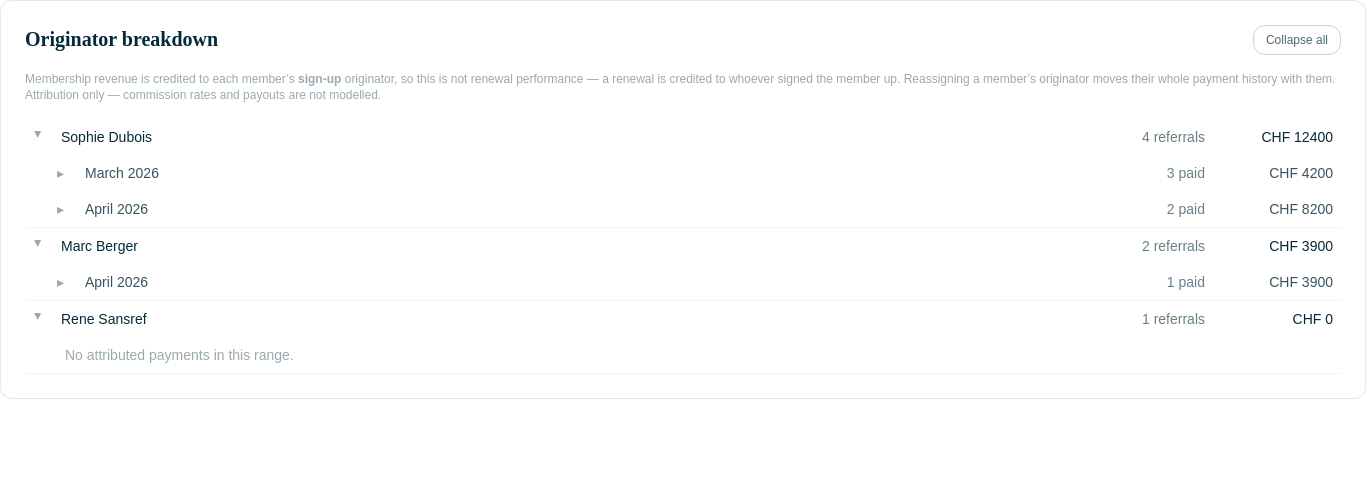
Test: OriginatorBreakdownPanel › collapses every level at once, then restores the default view
Click the button "▸ March 2026 3 paid CHF 4200". click: coordinates (122, 173)
box: x1=25 y1=155 x2=1341 y2=191
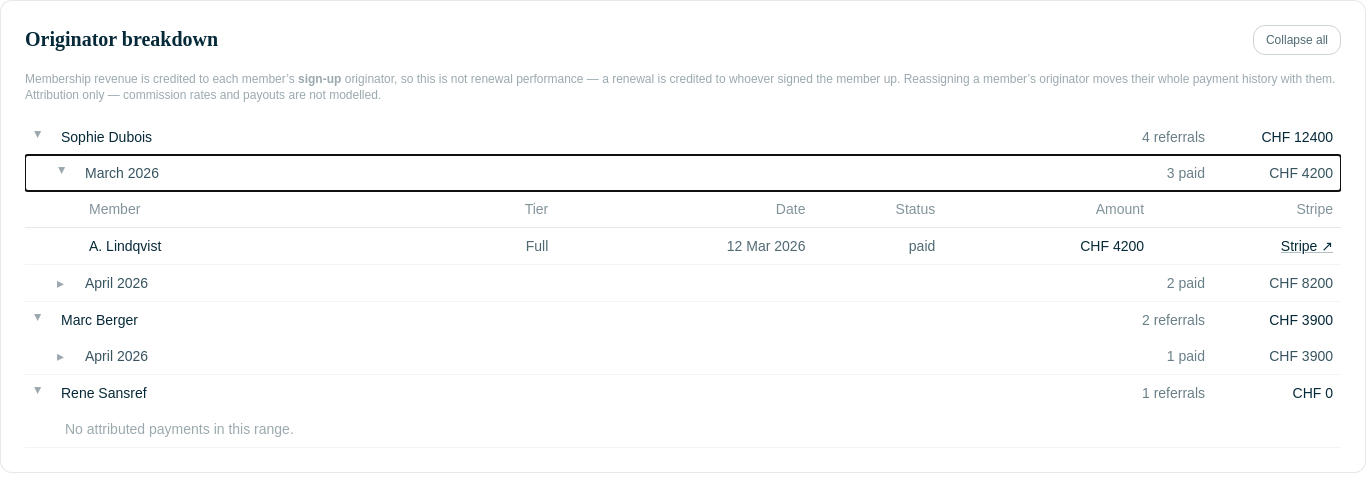
Expected: the text "A. Lindqvist" is shown, x1=25 y1=228 x2=471 y2=264
Click the button "Collapse all". click: coordinates (1297, 40)
box: x1=1253 y1=25 x2=1341 y2=55
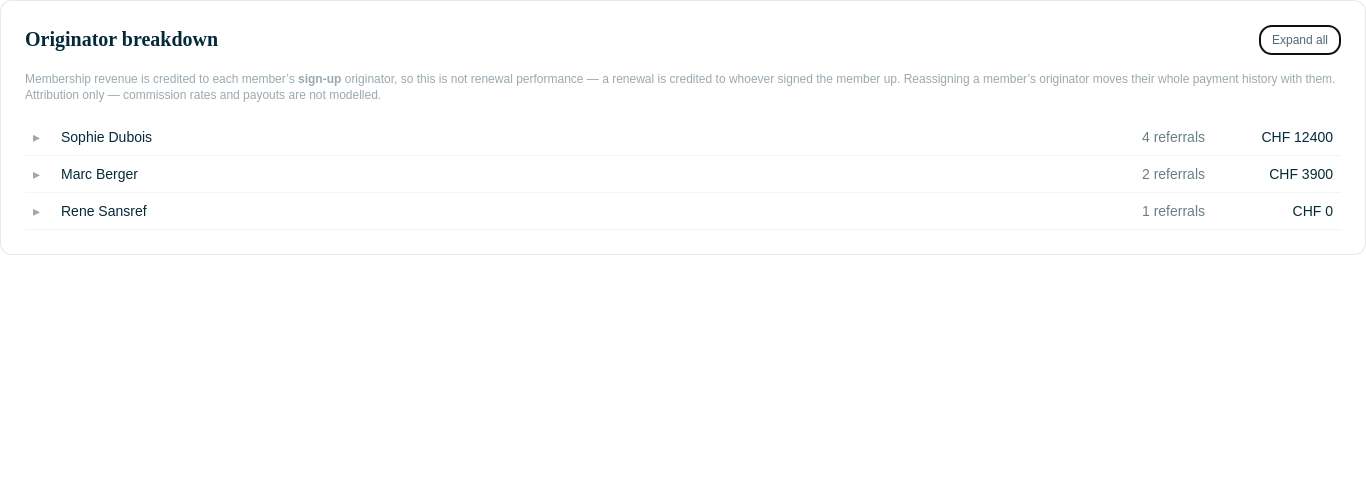
Expected: the button "▸ Sophie Dubois 4 referrals CHF 12400" is collapsed, x1=25 y1=119 x2=1341 y2=155
Expected: the button "▸ Marc Berger 2 referrals CHF 3900" is collapsed, x1=25 y1=156 x2=1341 y2=192
Expected: the button "▸ Rene Sansref 1 referrals CHF 0" is collapsed, x1=25 y1=193 x2=1341 y2=229
// The control flips rather than disappearing, so the default view is one click back.
Click the button "Expand all". click: coordinates (1300, 40)
box: x1=1259 y1=25 x2=1341 y2=55
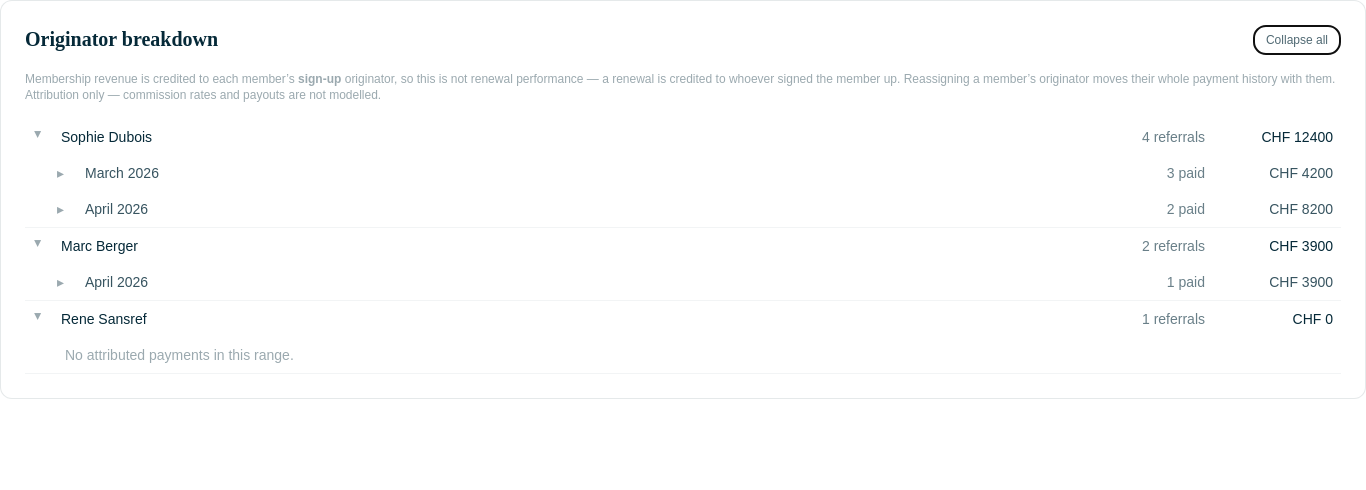
Expected: the text "A. Lindqvist" is not shown
Expected: the button "▸ Sophie Dubois 4 referrals CHF 12400" is expanded, x1=25 y1=119 x2=1341 y2=155
Expected: the text "March 2026" is shown, x1=85 y1=165 x2=159 y2=181
